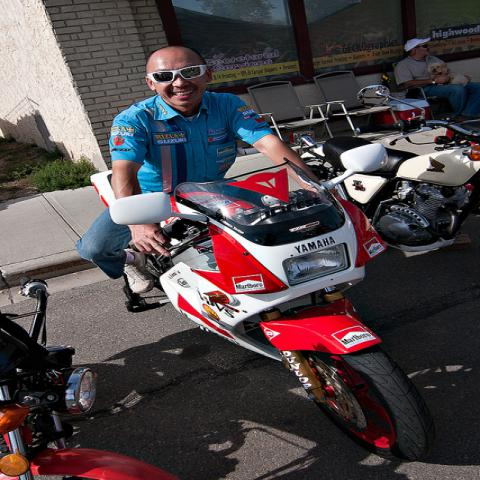motorcycle: (90, 143, 436, 464), (2, 274, 181, 480), (323, 84, 480, 251)
